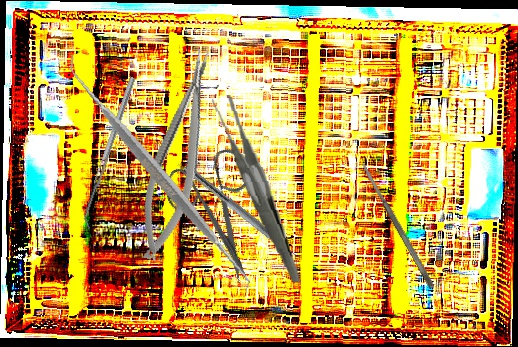Chopper: (176, 163, 309, 273)
Dressing Forceps: (211, 90, 301, 288)
Iris Scissors: (139, 127, 304, 290)
Needle Holder: (124, 45, 234, 266)
Spatula Surgical: (34, 54, 284, 294), (359, 160, 436, 290), (78, 76, 142, 231)
